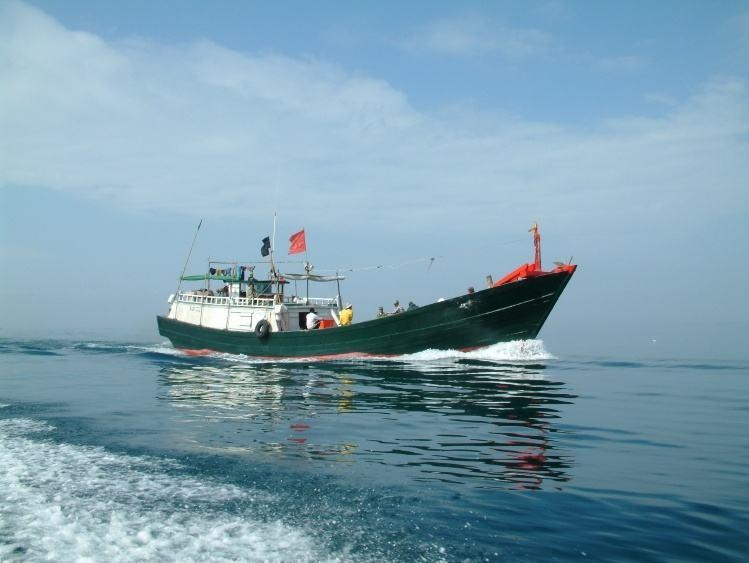otherboat: (152, 213, 576, 363)
